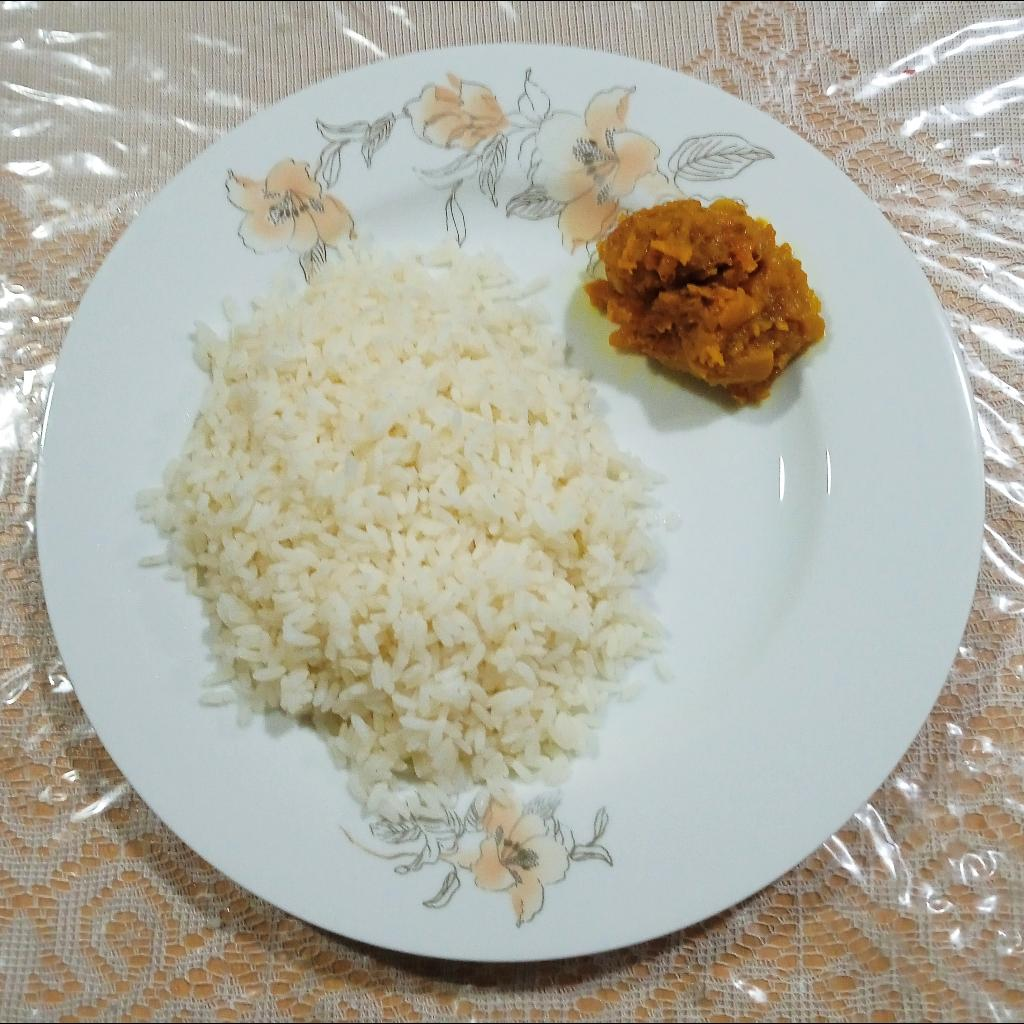kumra-vaji: (582, 197, 825, 404)
rice: (134, 233, 668, 823)
